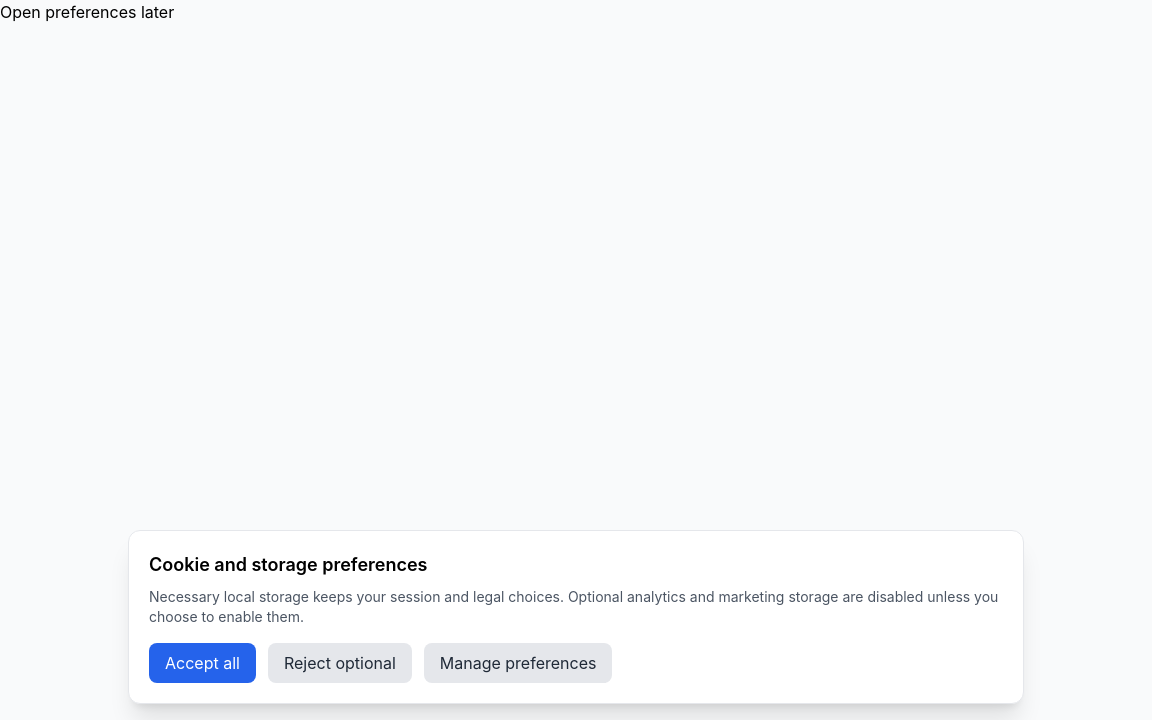
Scenario: CookieConsentManager › defaults optional storage off and keeps necessary storage enabled
Click the button "Manage preferences" at [518, 663], box 424,643 -> 612,683
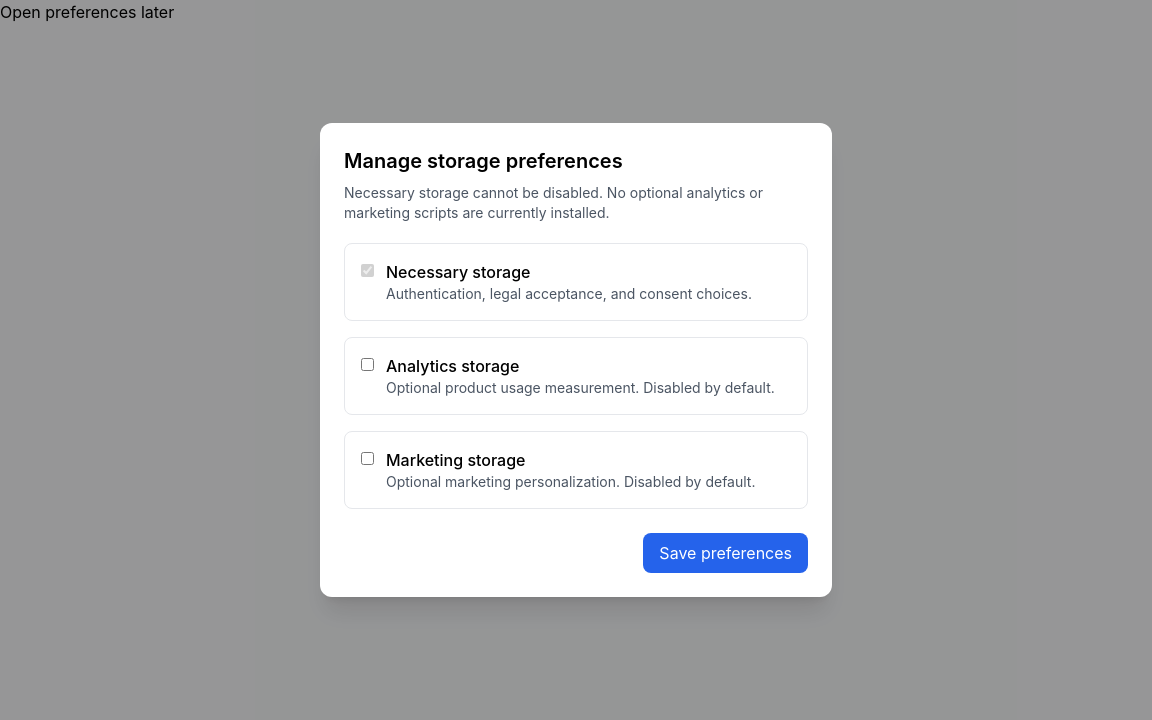
Expected: the checkbox labelled "Necessary storage" is checked, 361,264 -> 374,277
Expected: the checkbox labelled "Necessary storage" is disabled, 361,264 -> 374,277
Expected: the checkbox labelled "Analytics storage" is not checked, 361,358 -> 374,371
